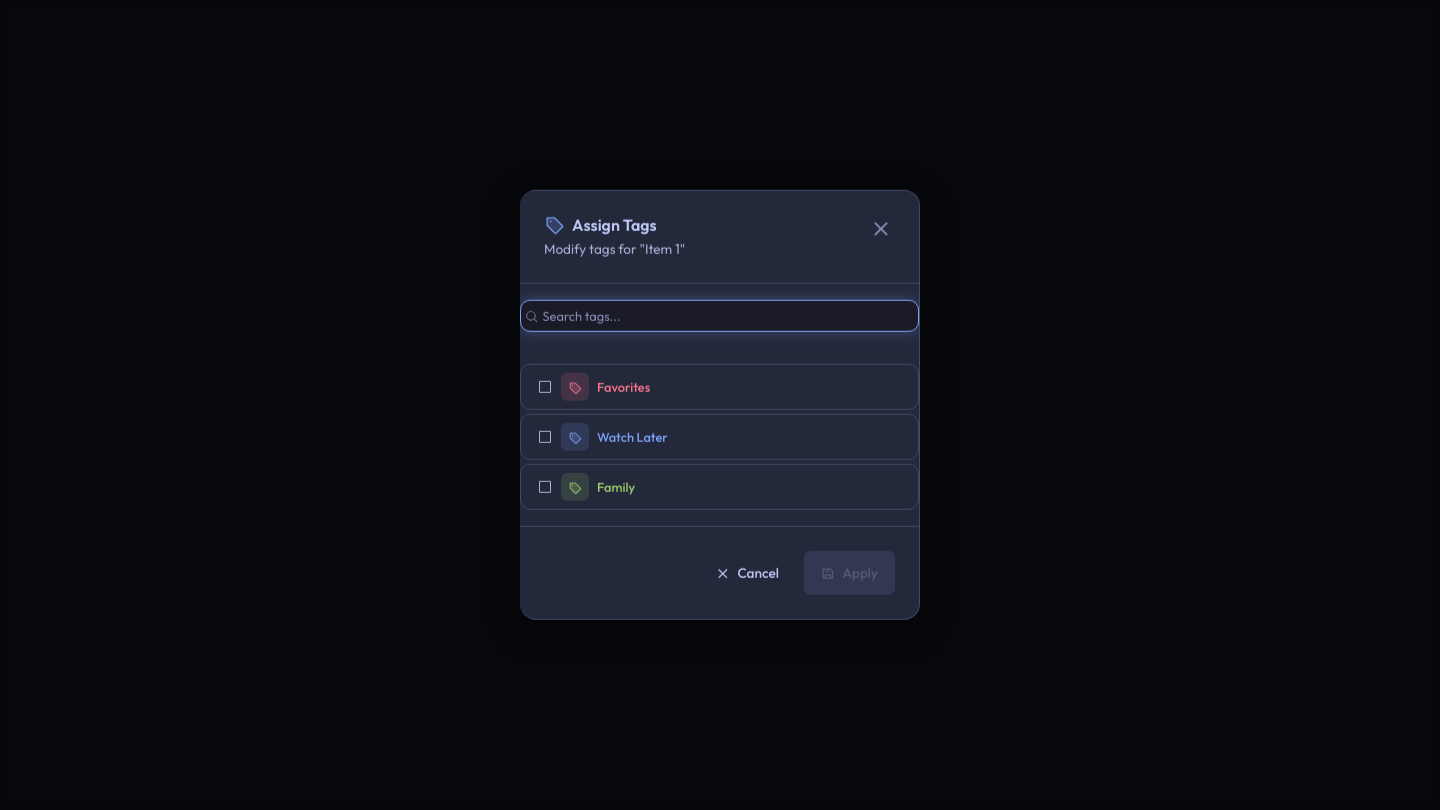
BulkTagAssignment › tag interactions › toggles tag to "add" when clicking an unchecked tag
This screenshot has width=1440, height=810.
Click the button "Favorites" at (624, 387), box [520, 364, 919, 410]
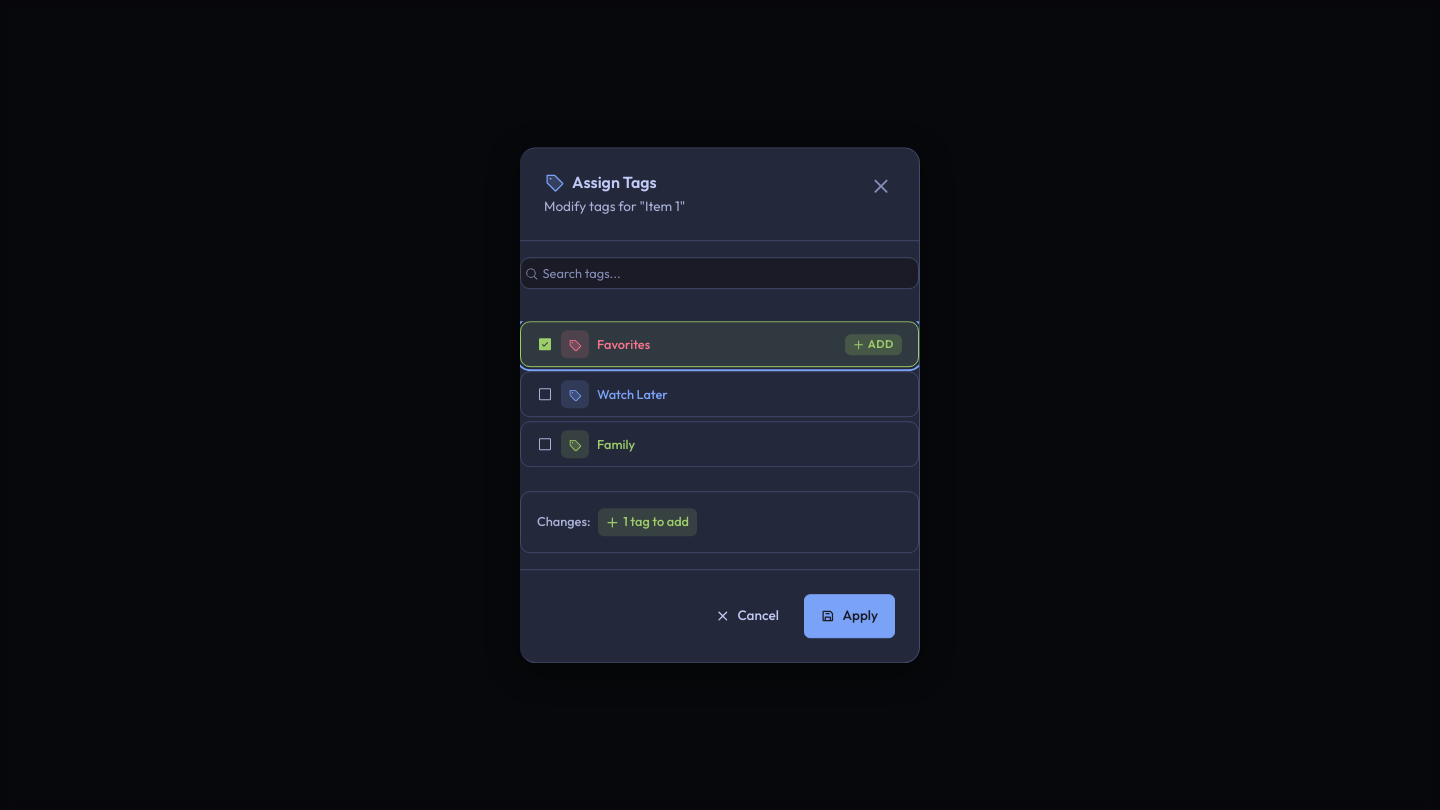
Expected: the text "Add" is shown, [868, 336, 894, 353]
